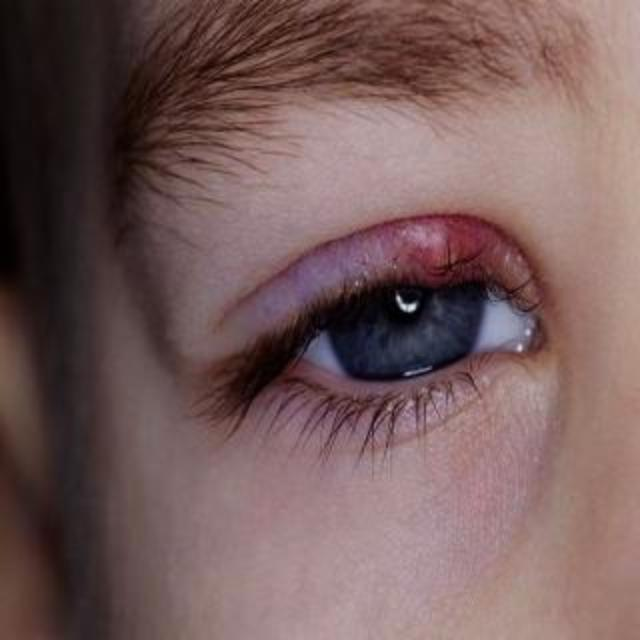Stye: (370, 195, 515, 317)
